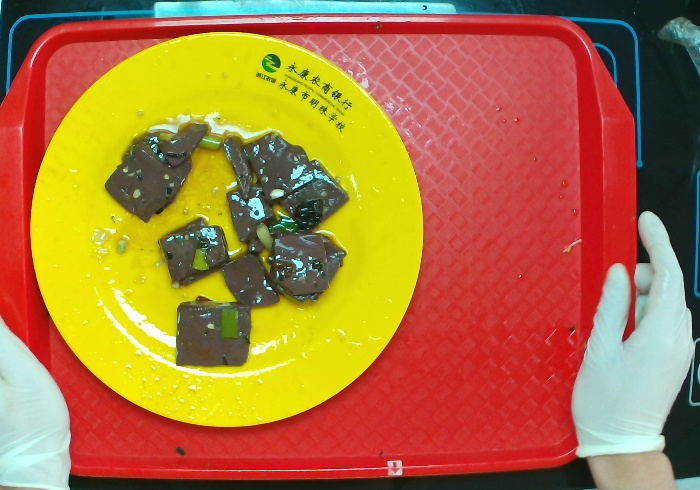YKMZ-Huang_Se_Mian_Pan: (21, 22, 440, 437)
